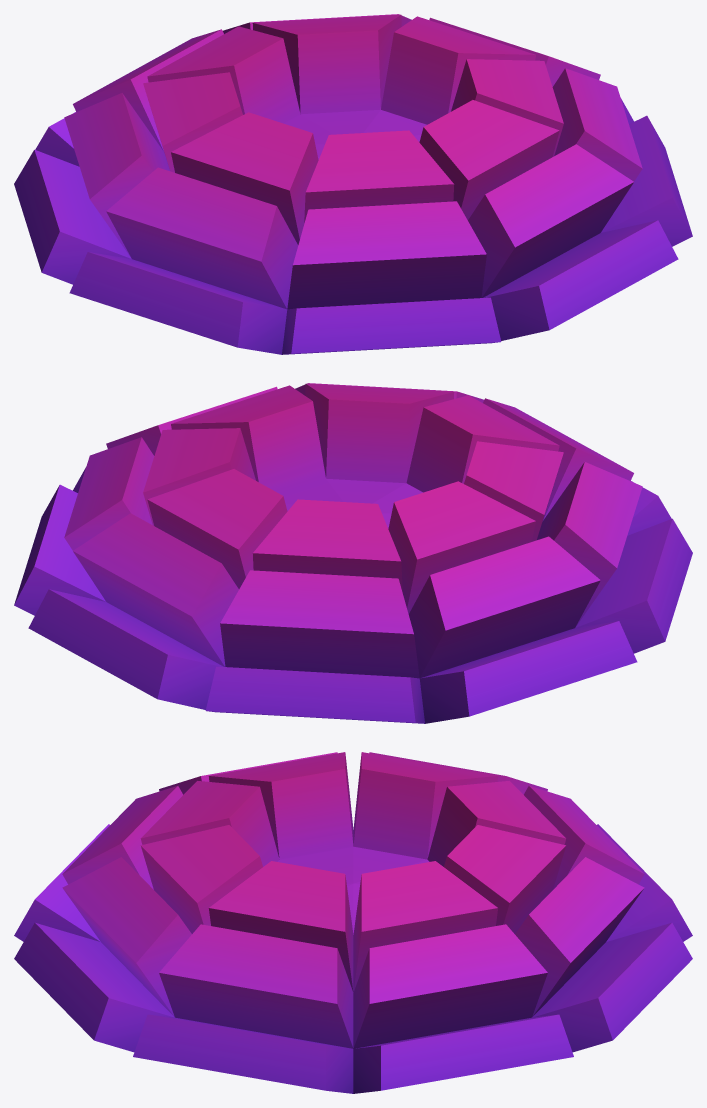
The model's file is anemone_far7.fbx.
3 renders of one model, top to bottom at view 1: azimuth 30°, elevation 25°; view 2: azimuth 150°, elevation 25°; view 3: azimuth 270°, elevation 25°, orthographic.
Visible parts, largest first — view 1: anemone_far7; view 2: anemone_far7; view 3: anemone_far7.
Part boxes in pixels (<box>): anemone_far7: <box>14,14,692,354</box>; anemone_far7: <box>14,383,692,723</box>; anemone_far7: <box>14,752,692,1093</box>.
Bounding box in the file's own units: 0.0421 × 0.0107 × 0.0421.
Materials: 1 (1 with a texture image).
